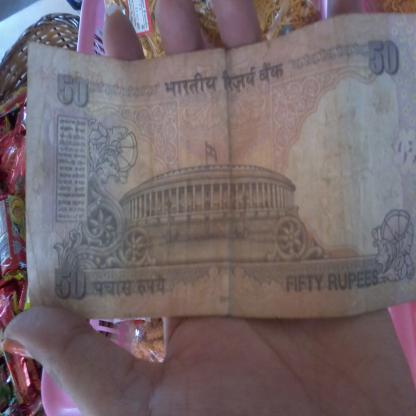Old50Back: (25, 15, 416, 318)
